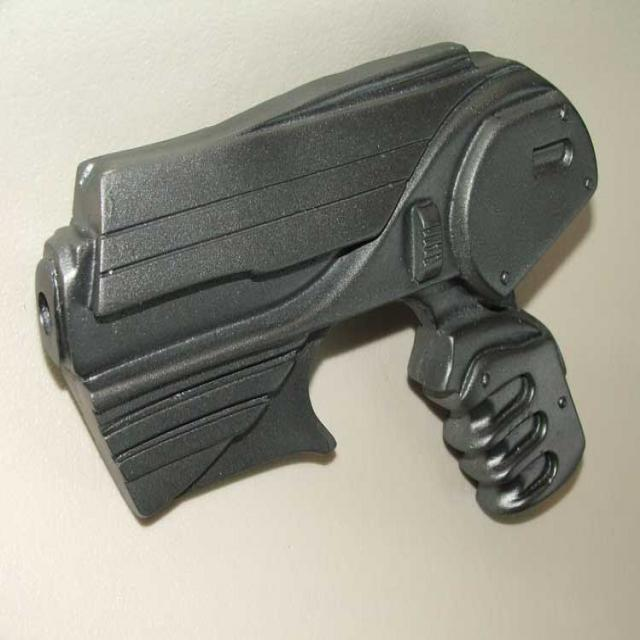gun: (29, 17, 619, 540)
